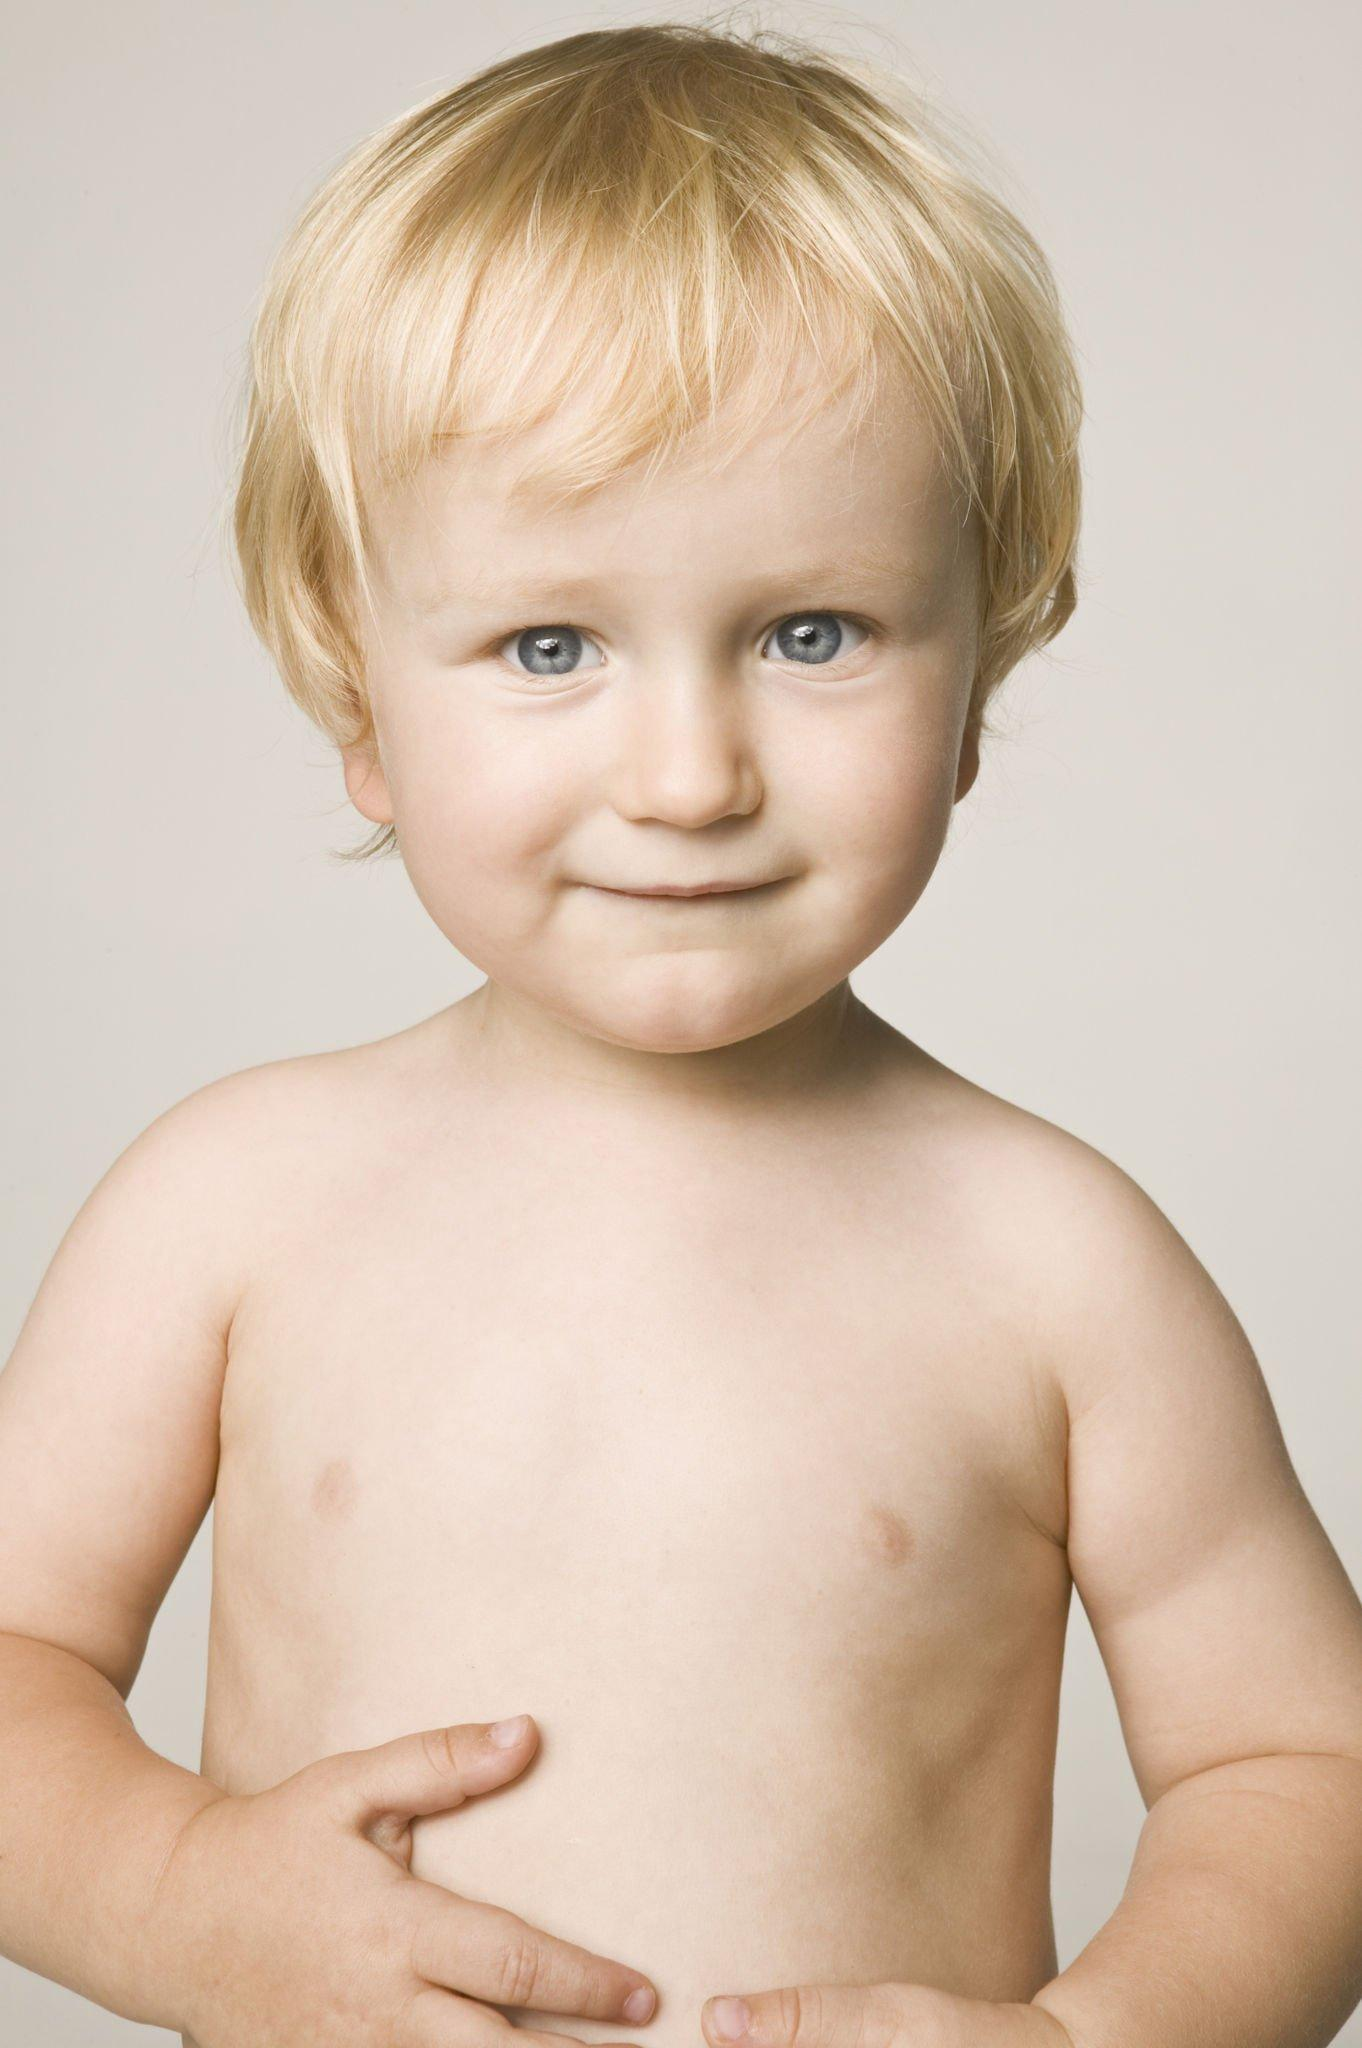Healthy: (272, 102, 1152, 1123)
